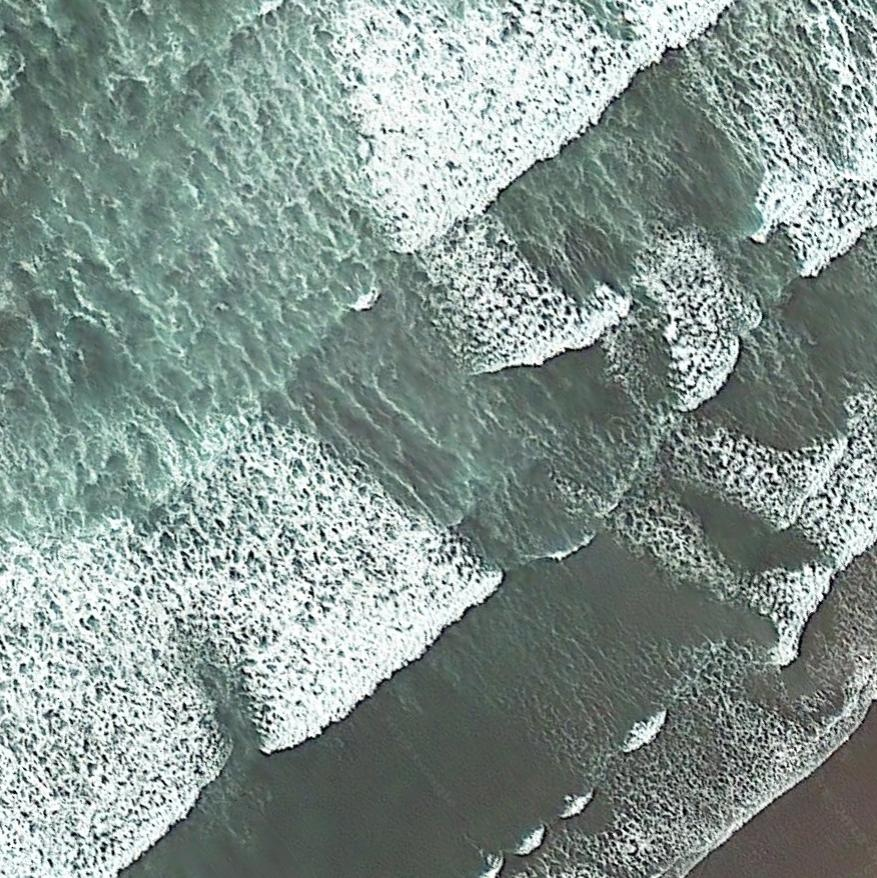rip_current: (186, 192, 662, 574)
